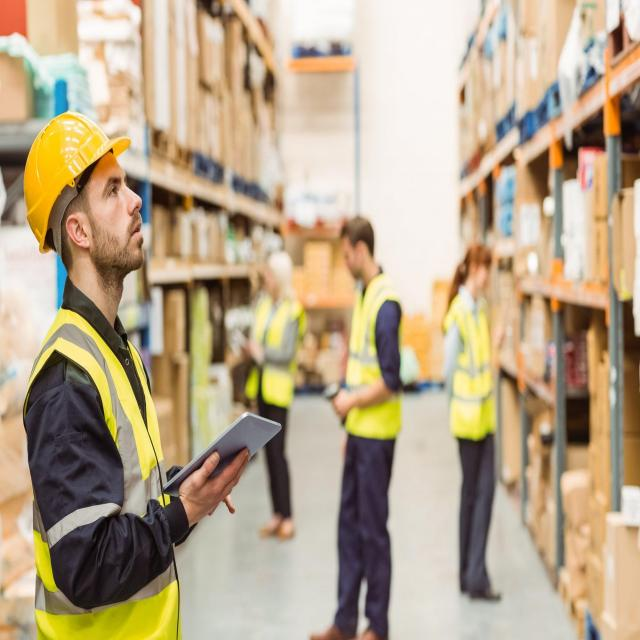Reflective-Jacket: (27, 306, 185, 640), (340, 270, 408, 442), (442, 289, 502, 446), (246, 288, 308, 414)
Safety-Helmet: (19, 107, 130, 250)
